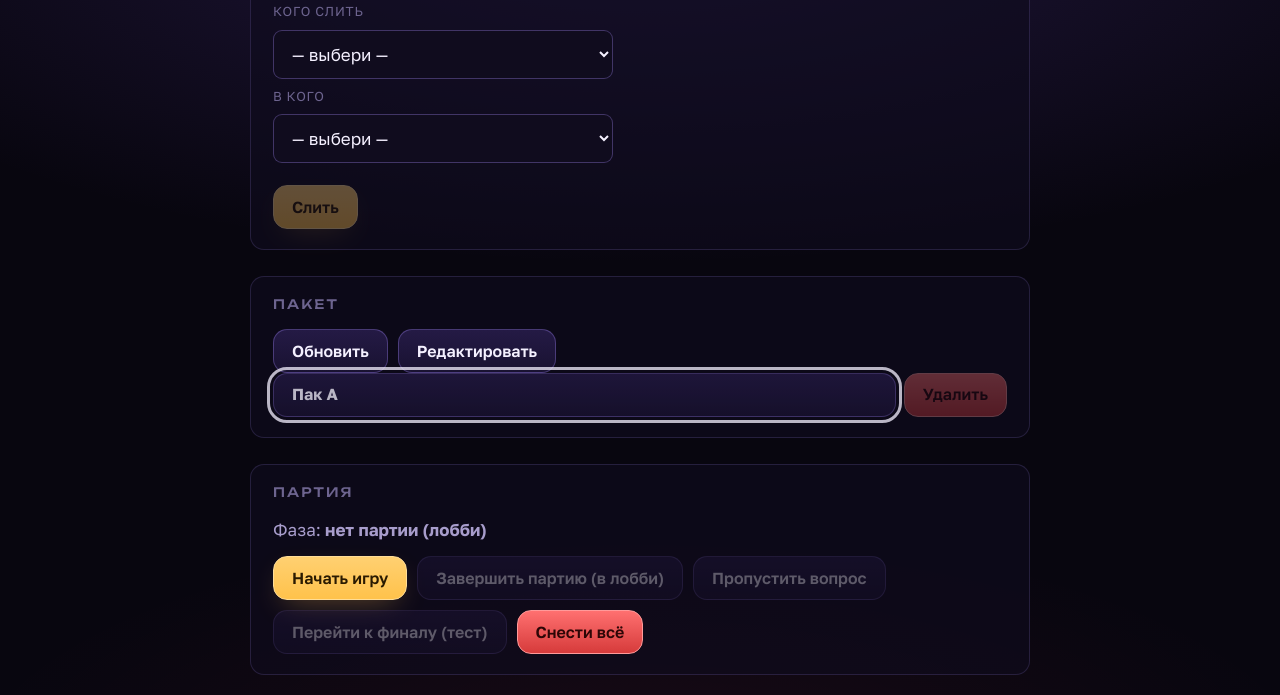
it: Admin — редактор пакета › returns to the pack list when "Готово" is clicked, resetting the pack editor state
(page scrolled)
Step 1. Click the button "Редактировать" → (477, 351), box x1=398 y1=329 x2=556 y2=373
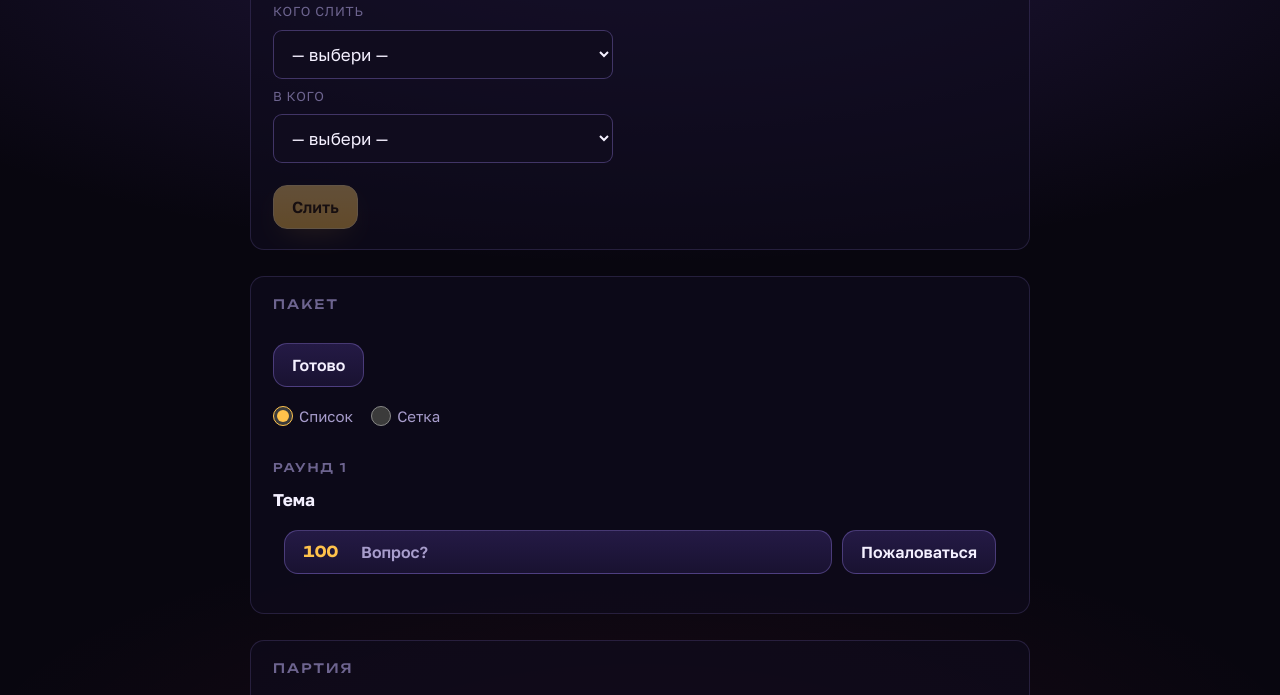
Step 2. Click the button "Готово" → (319, 365), box x1=273 y1=343 x2=364 y2=387
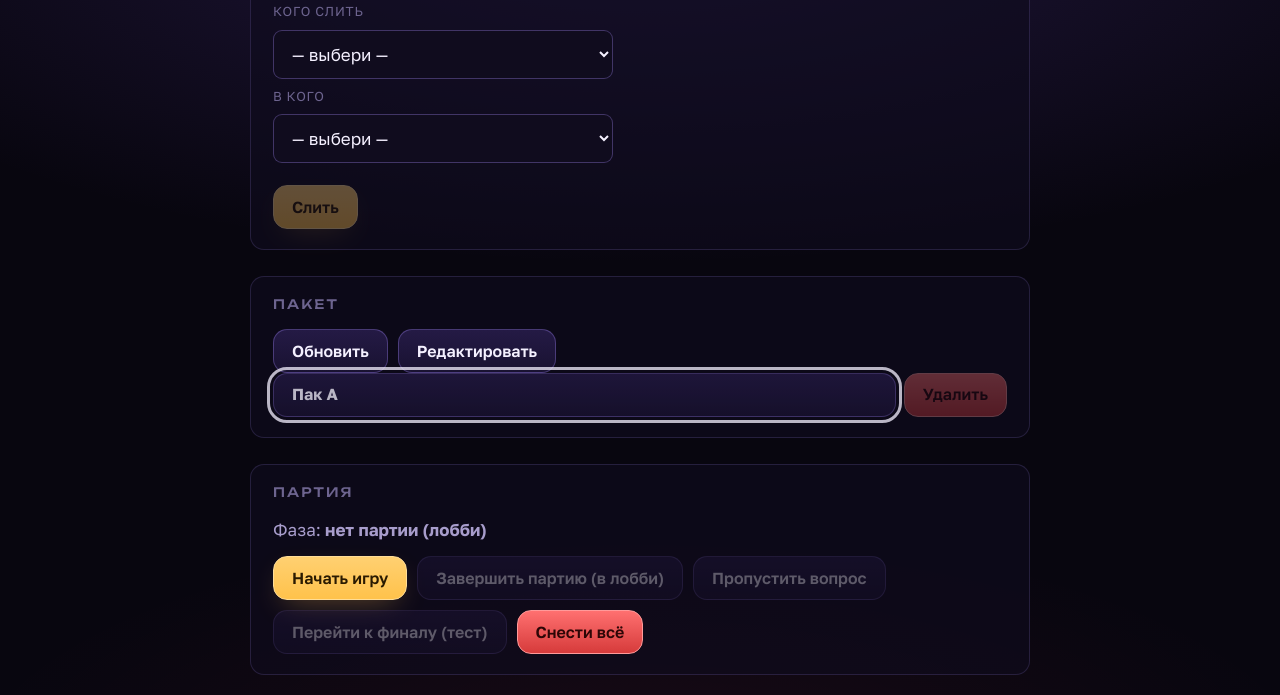
Now the button "100" is gone
Now the button "Редактировать" is shown, box x1=398 y1=329 x2=556 y2=373
